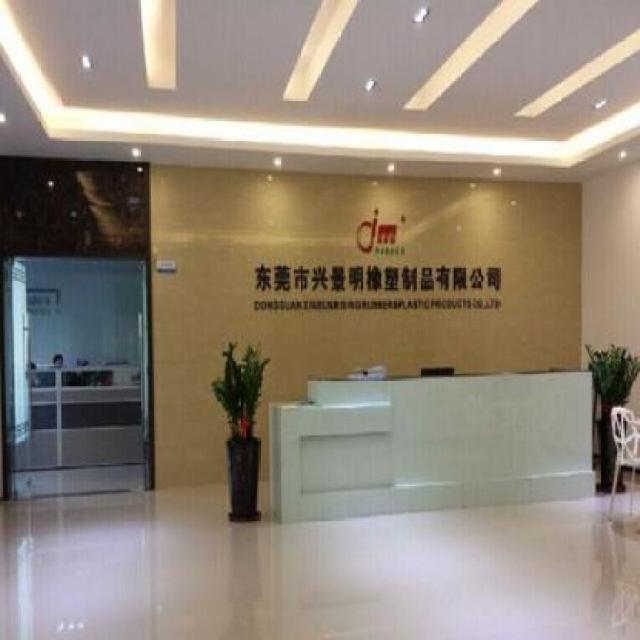frontdesk: (263, 354, 605, 538)
